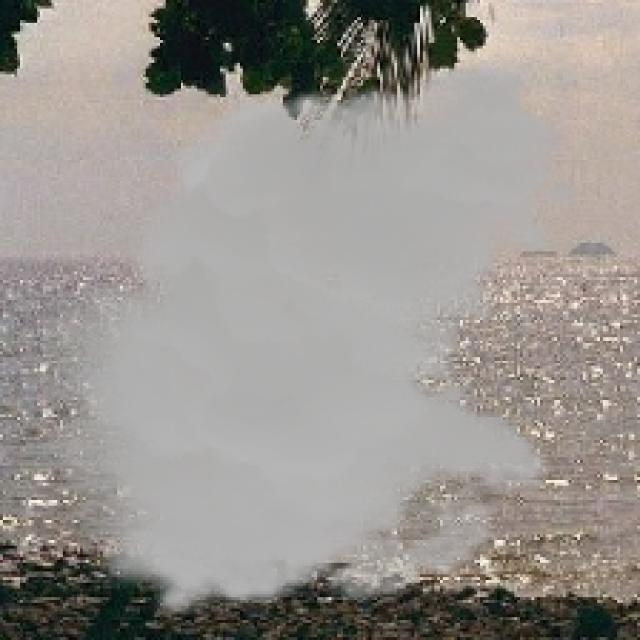Smoke: (26, 63, 586, 620)
